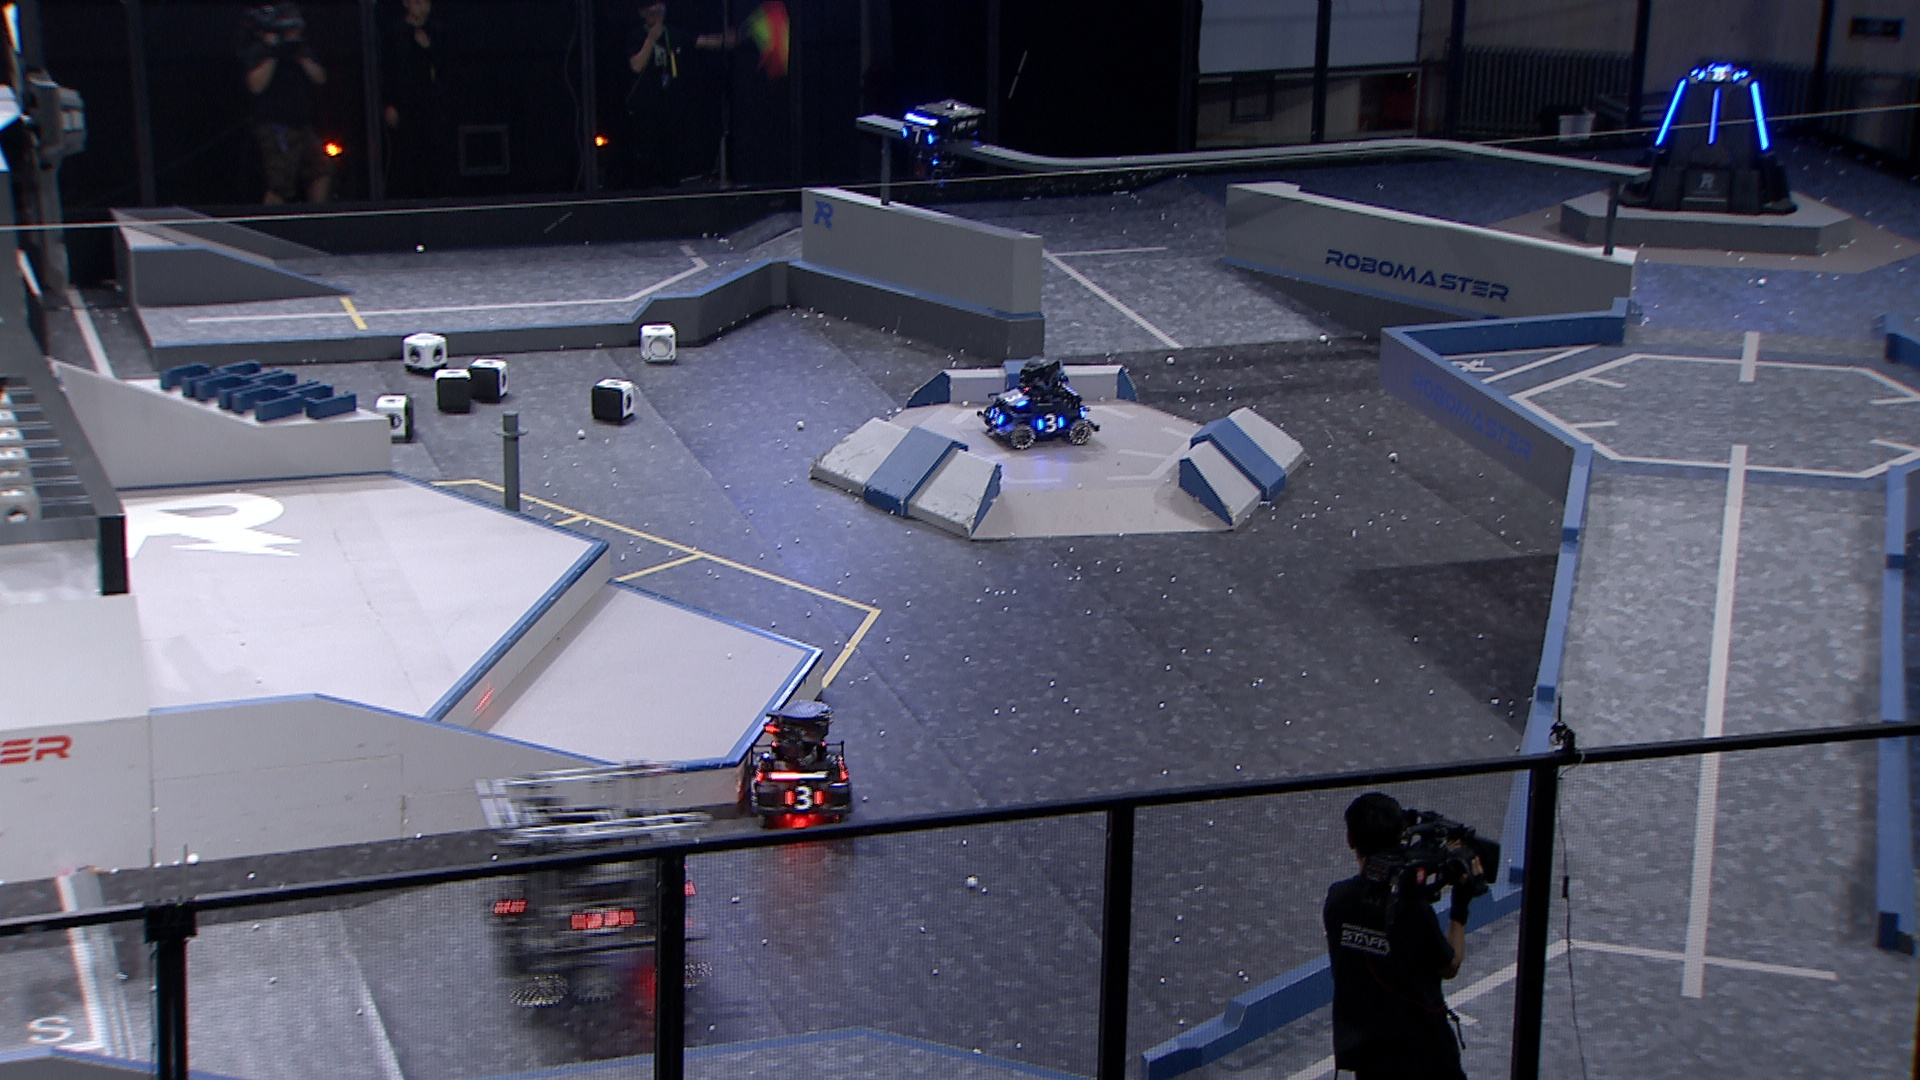armor: (1654, 79, 1689, 148), (571, 907, 637, 936), (1750, 80, 1771, 152), (489, 884, 527, 920), (1705, 84, 1724, 148), (782, 787, 825, 808), (898, 125, 935, 146), (1035, 411, 1067, 434), (1695, 69, 1741, 83), (746, 757, 767, 785), (1004, 385, 1026, 410), (986, 404, 1007, 425)
base: (1615, 62, 1803, 220)
car: (471, 756, 716, 1015), (742, 699, 862, 831), (975, 353, 1101, 454)
watcher: (891, 96, 982, 194)
